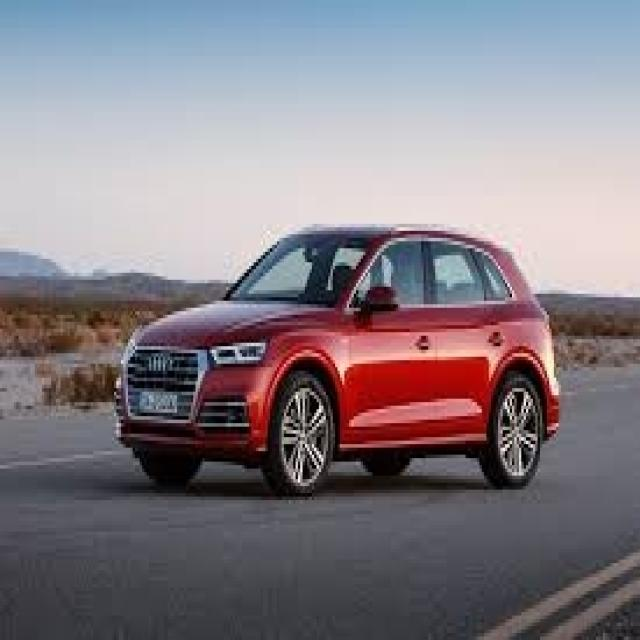red: (109, 219, 559, 505)
